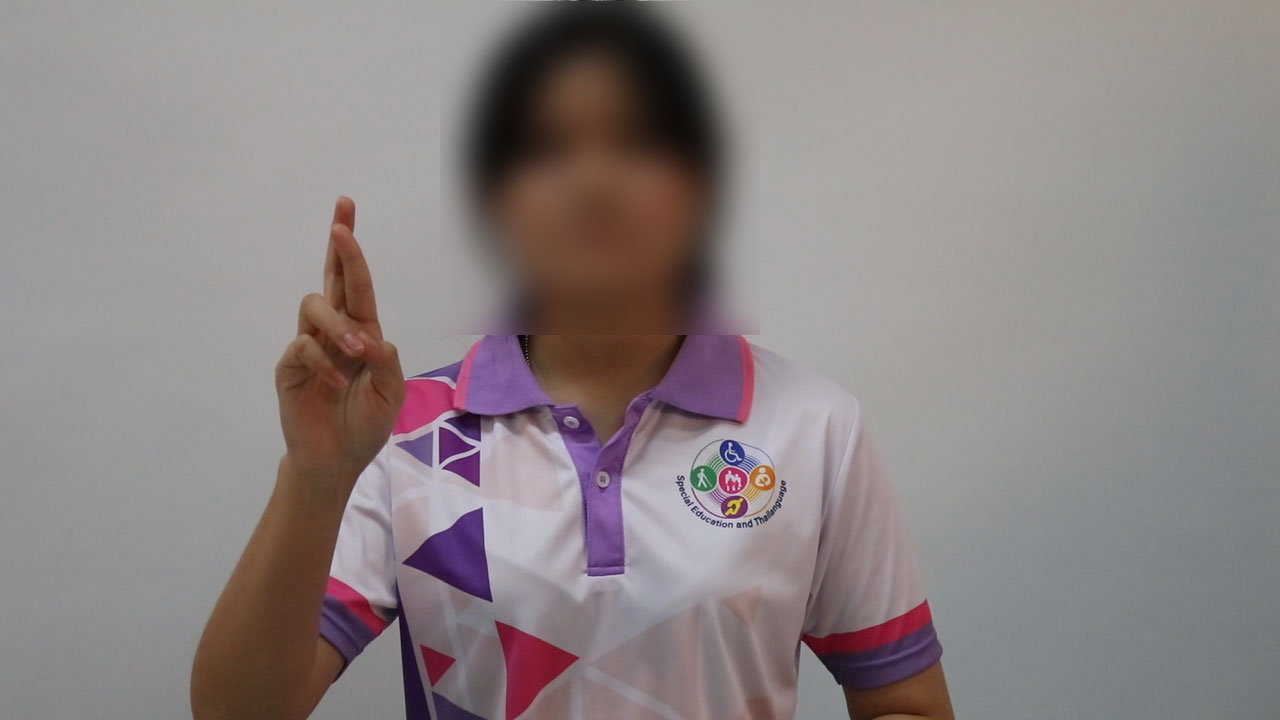rao: (249, 190, 413, 477)
